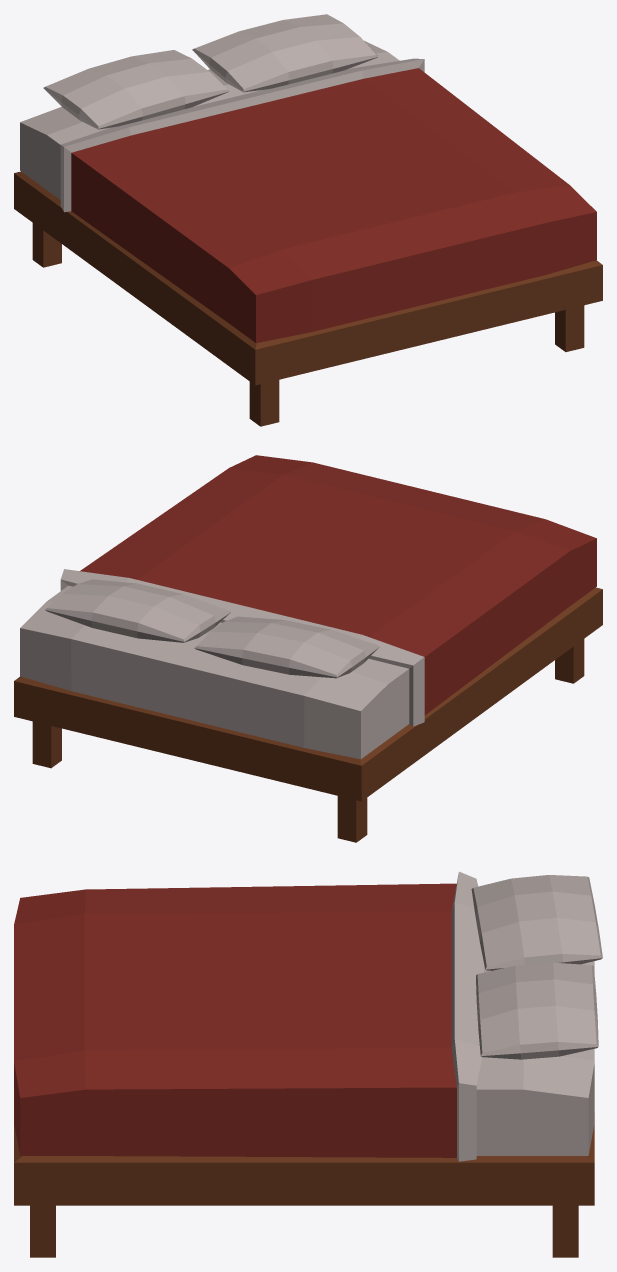
File: DoubleBed1.glb
3 renders of one model, top to bottom at view 1: azimuth 30°, elevation 25°; view 2: azimuth 150°, elevation 25°; view 3: azimuth 270°, elevation 25°, orthographic. The views are drawn at different scales.
Visible parts, largest first — view 1: DoubleBed1; view 2: DoubleBed1; view 3: DoubleBed1.
Part boxes in pixels (x1,y1,x2,y2): DoubleBed1: (14, 14, 602, 426); DoubleBed1: (14, 455, 602, 842); DoubleBed1: (14, 871, 602, 1257).
Bounding box in the file's own units: 1.76 × 0.8266 × 2.07.
